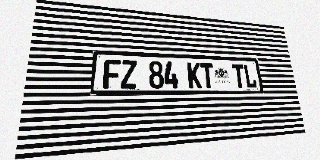4: (164, 61, 179, 88)
8: (149, 61, 164, 89)
F: (103, 59, 120, 89)
K: (187, 62, 202, 88)
L: (243, 64, 257, 88)
T: (200, 63, 215, 88), (232, 64, 246, 88)
Z: (121, 60, 137, 89)
